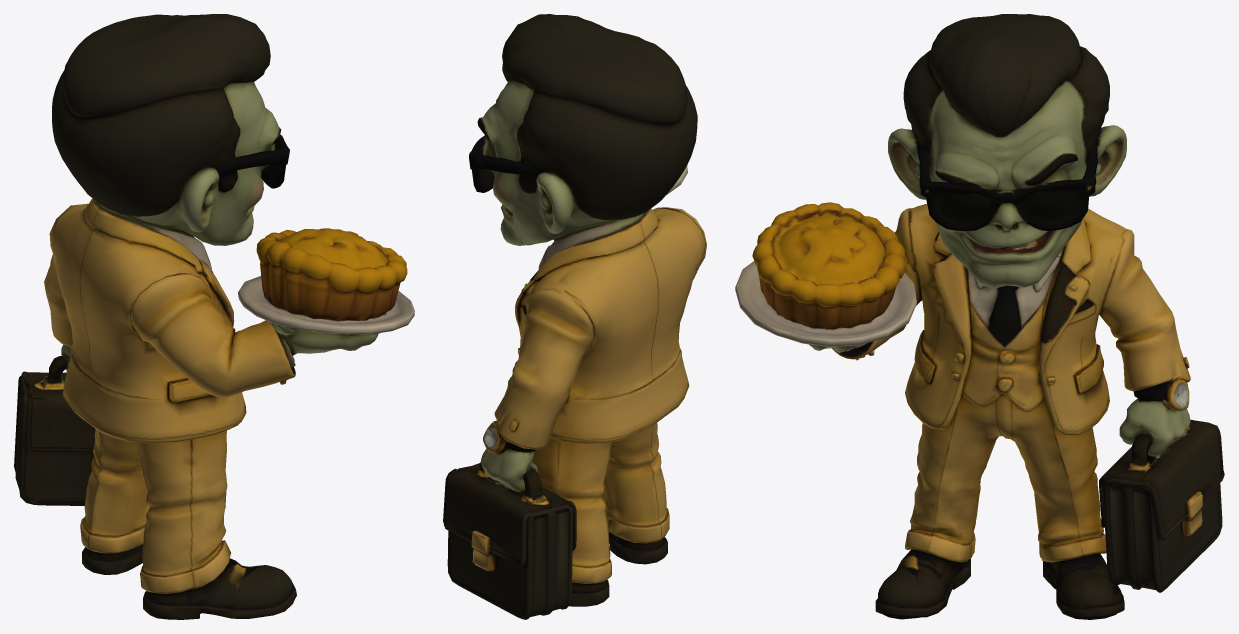
Rendered from traitor.glb.
3 views of the same model, side by side, from view 1: azimuth 30°, elevation 25°; view 2: azimuth 150°, elevation 25°; view 3: azimuth 270°, elevation 25° (orthographic). The views are drawn at different scales.
Visible parts, largest first — view 1: tripo_node_0489a0a0-a0cf-428f-9ff0-4da77d5469dd; view 2: tripo_node_0489a0a0-a0cf-428f-9ff0-4da77d5469dd; view 3: tripo_node_0489a0a0-a0cf-428f-9ff0-4da77d5469dd.
Part boxes in pixels (bbox=[...]): tripo_node_0489a0a0-a0cf-428f-9ff0-4da77d5469dd: bbox=[14, 14, 414, 619]; tripo_node_0489a0a0-a0cf-428f-9ff0-4da77d5469dd: bbox=[443, 14, 706, 619]; tripo_node_0489a0a0-a0cf-428f-9ff0-4da77d5469dd: bbox=[735, 14, 1224, 619].
Bounding box in the file's own units: 0.161 × 0.35 × 0.2747.
Materials: 1 (1 with a texture image).
